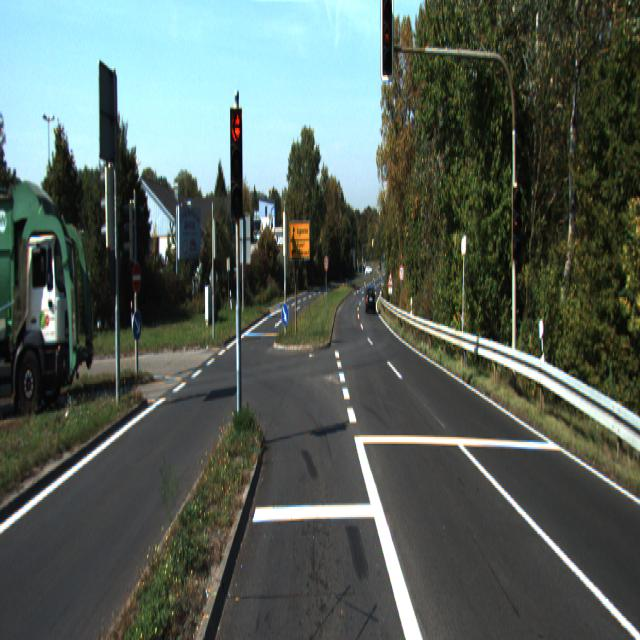Car: (0, 175, 98, 412), (366, 286, 376, 313)
